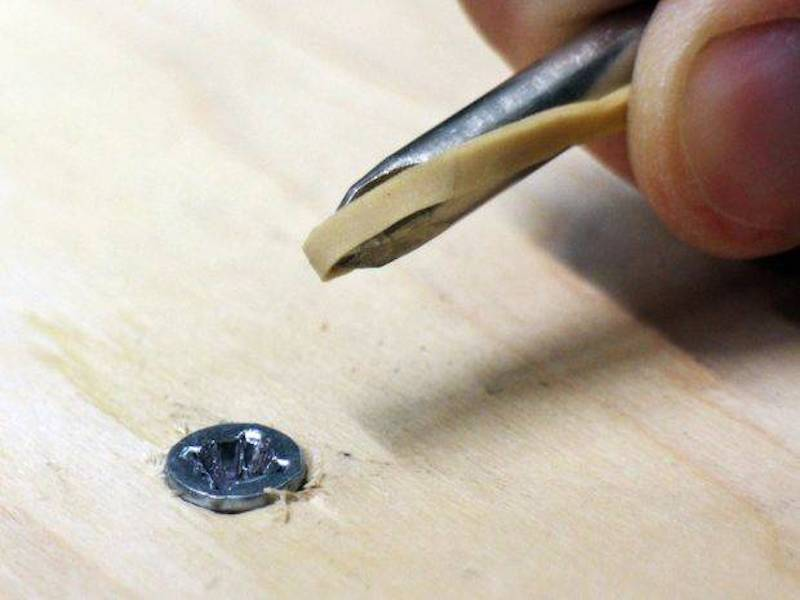screw: (162, 418, 312, 518)
